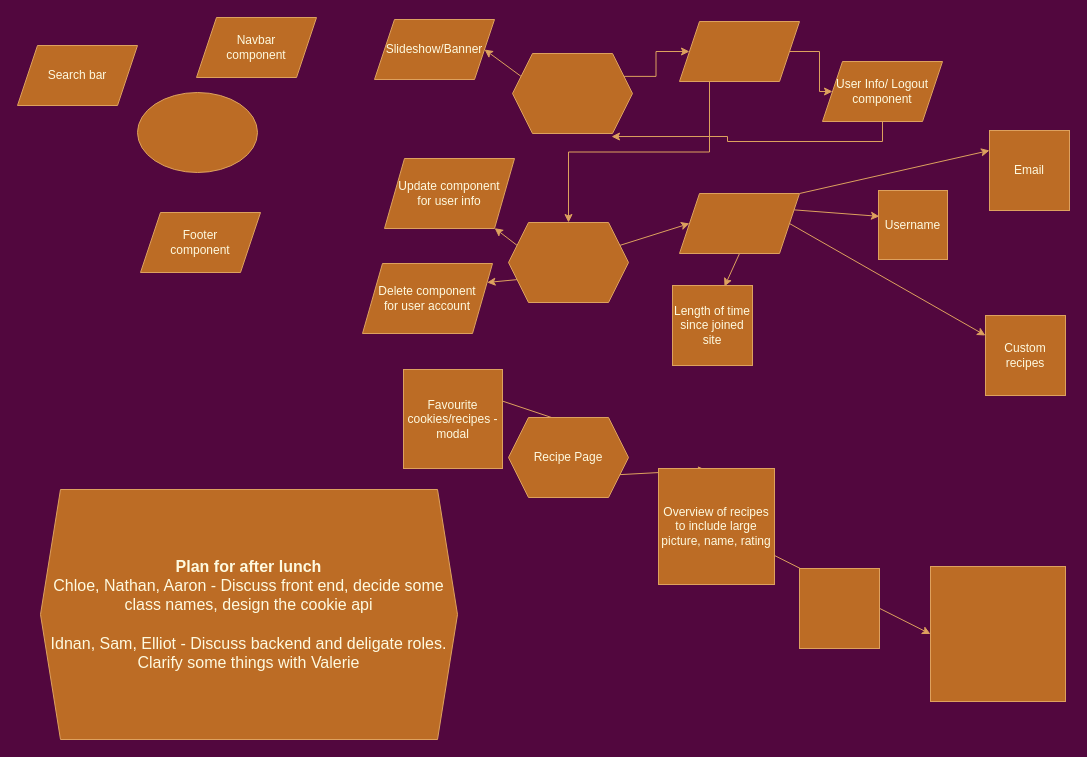
This 1087x757 diagram has some shape labels left out. Here are the shapes that lost their labels. From the top down, the centre of each, then its label:
At point (739, 51): "Login/Signup Component".
At point (572, 93): "Home Page".
At point (197, 132): "All pages".
At point (739, 223): "Dynamic user info".
At point (568, 262): "Logged In Page".
At point (839, 608): "Modal to display recipes".
At point (998, 634): "Recipe Name Picture Ingredients Recipe Rating Allergies Price Time".
